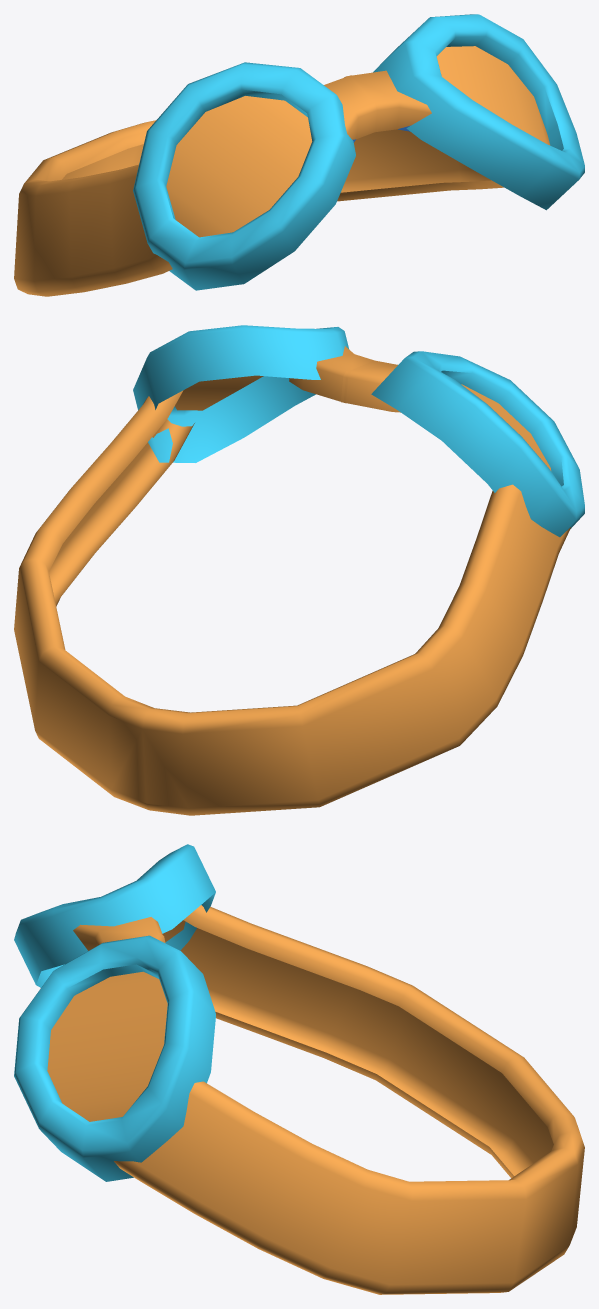
The model's file is bomb enemy glasses.fbx.
The picture shows the model from 3 angles, top to bottom: view 1: azimuth 30°, elevation 25°; view 2: azimuth 150°, elevation 25°; view 3: azimuth 270°, elevation 25°; orthographic projection. The views are drawn at different scales.
Visible parts, largest first — view 1: Glasses; view 2: Glasses; view 3: Glasses.
Boxes of the visible parts, box(x1,y1,x2,y2) form: Glasses: box(14, 14, 584, 296); Glasses: box(14, 325, 584, 815); Glasses: box(14, 844, 584, 1294).
Size of the model in its own units: 67.53 by 45.28 by 69.68.
